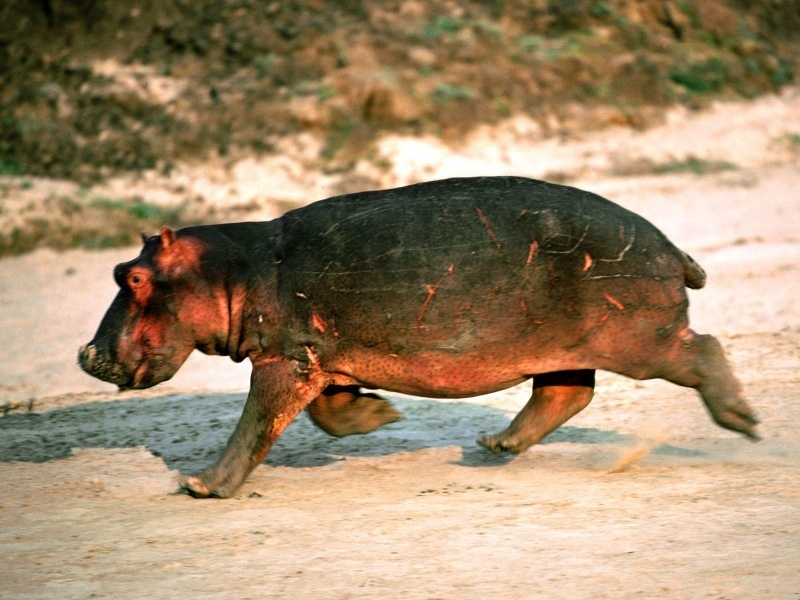hipopotamo: (76, 153, 769, 501)
